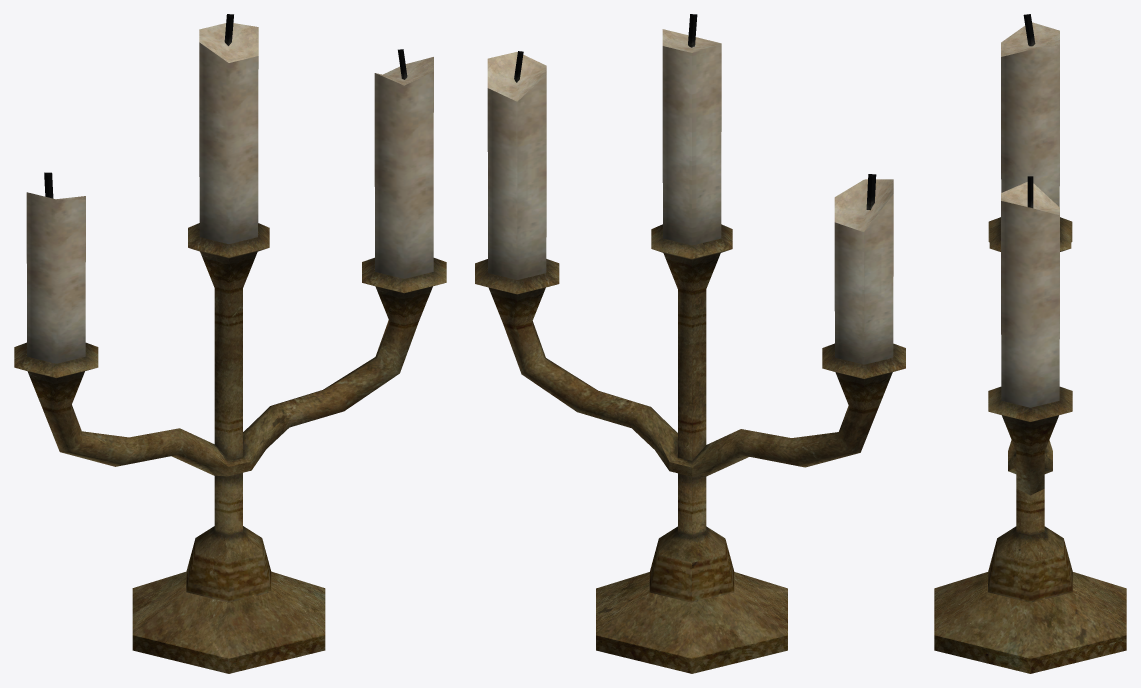
File: candlestick_tri.dae
3 renders of one model, left to right at view 1: azimuth 30°, elevation 25°; view 2: azimuth 150°, elevation 25°; view 3: azimuth 270°, elevation 25°, orthographic.
Visible parts, largest first — view 1: polySurface9; view 2: polySurface9; view 3: polySurface9.
Boxes of the visible parts, x1,y1,x2,y2 form: polySurface9: (14, 14, 446, 673); polySurface9: (475, 14, 905, 673); polySurface9: (934, 14, 1126, 673).
Size of the model in its own units: 0.438 by 0.5939 by 0.169.
